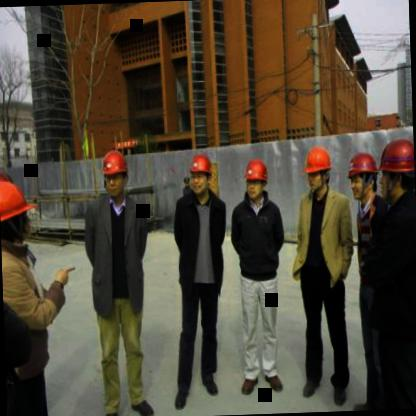helmet: (0, 177, 39, 256), (378, 138, 416, 201), (99, 145, 131, 200), (302, 142, 334, 196), (348, 152, 378, 200), (186, 152, 216, 198), (242, 158, 271, 204)
